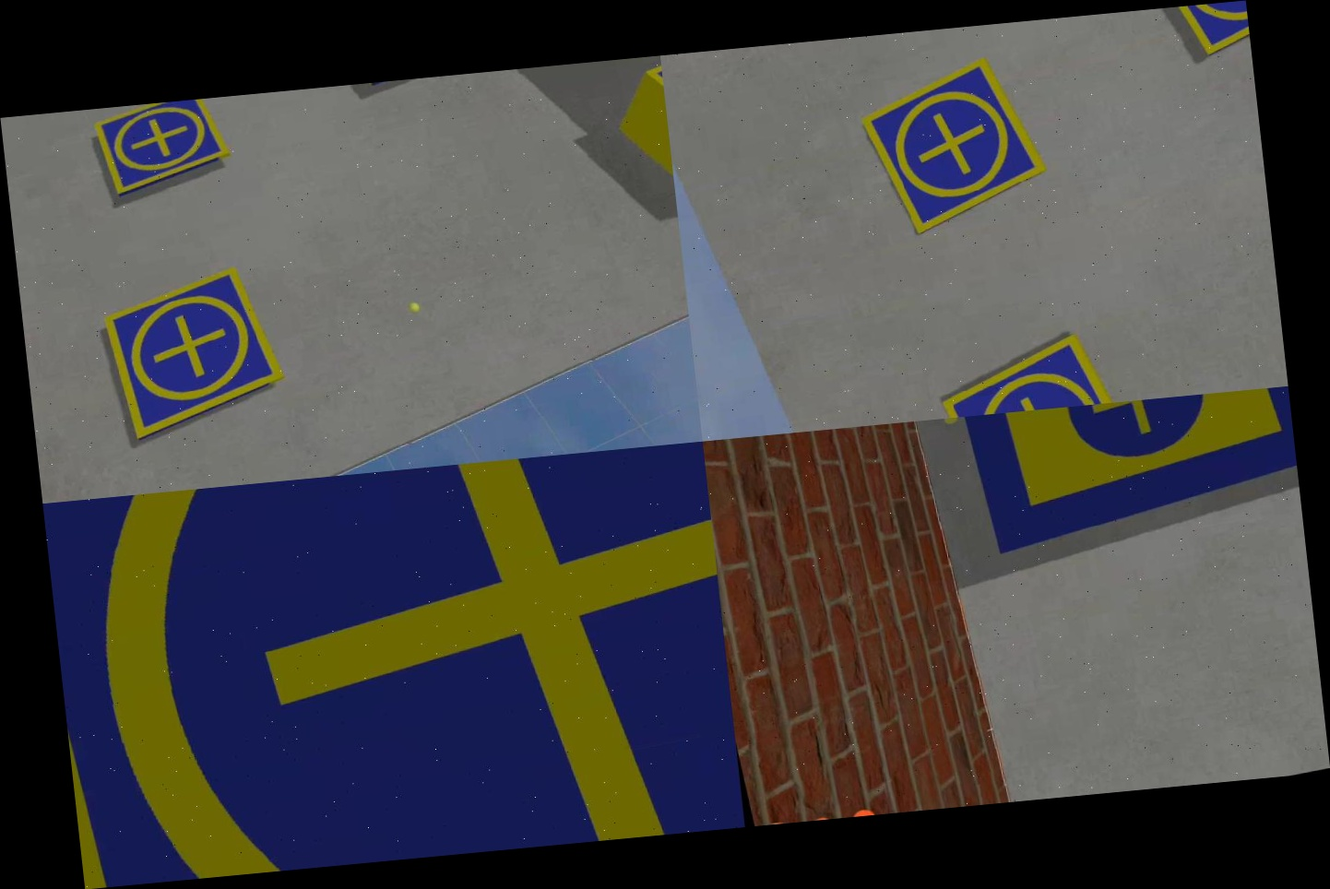large_base: (42, 441, 745, 888), (942, 386, 1303, 562)
small_base: (853, 51, 1056, 243), (94, 263, 291, 446), (933, 323, 1141, 419), (89, 96, 237, 199)
